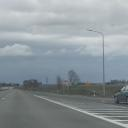speed_limit_100: (60, 79, 66, 84)
speed_limit_120: (64, 79, 72, 85)
